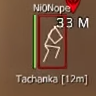hacks_3: (16, 3, 88, 85)
